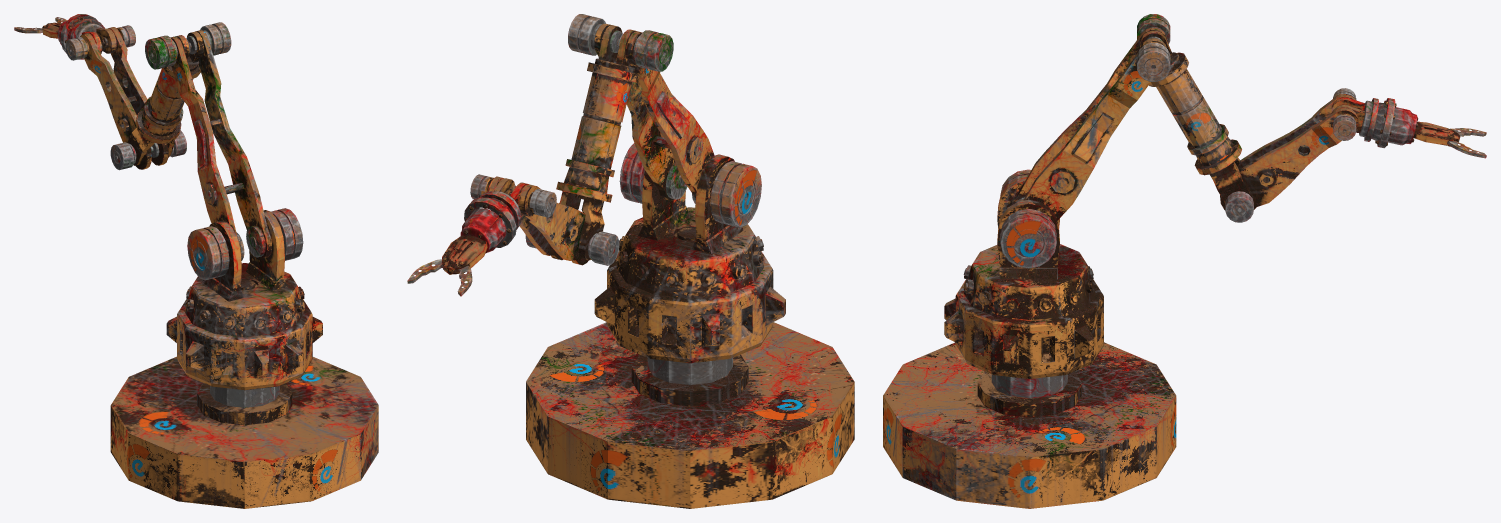
Rendered from RobotArm.gltf.
3 views of the same model, side by side, from view 1: azimuth 30°, elevation 25°; view 2: azimuth 150°, elevation 25°; view 3: azimuth 270°, elevation 25° (orthographic). The views are drawn at different scales.
Visible parts, largest first — view 1: Arm.000, Arm.001, Arm.002, Arm.003, Arm.004, Arm.005; view 2: Arm.000, Arm.001, Arm.002, Arm.003, Arm.004, Arm.006, Arm.005; view 3: Arm.000, Arm.001, Arm.002, Arm.003, Arm.004, Arm.005, Arm.006.
Part boxes in pixels (x1,y1,x2,y2): Arm.000: (110, 356, 378, 508); Arm.001: (166, 208, 322, 390); Arm.002: (145, 22, 271, 258); Arm.003: (110, 31, 203, 170); Arm.004: (65, 25, 168, 169); Arm.005: (60, 14, 116, 59); Arm.000: (526, 322, 854, 508); Arm.001: (594, 143, 785, 363); Arm.002: (568, 14, 714, 200); Arm.003: (525, 25, 639, 265); Arm.004: (470, 174, 588, 265); Arm.006: (442, 208, 506, 274); Arm.005: (464, 178, 528, 247); Arm.000: (883, 342, 1176, 508); Arm.001: (944, 169, 1103, 378); Arm.002: (1009, 14, 1170, 220); Arm.003: (1140, 30, 1253, 222); Arm.004: (1220, 88, 1358, 210); Arm.005: (1331, 97, 1396, 148); Arm.006: (1387, 107, 1460, 146).
Bounding box in the file's own units: 12.25 × 19.1 × 25.22.
1 material, 1 textured.
